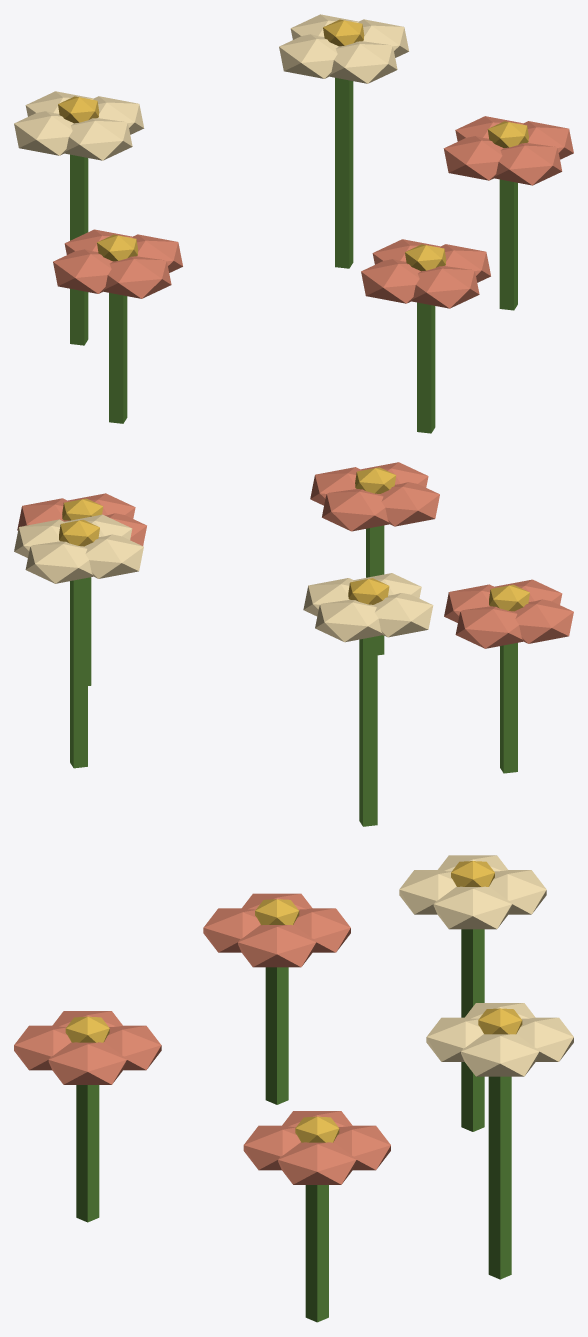
The model's file is flowers.glb.
3 renders of one model, top to bottom at view 1: azimuth 30°, elevation 25°; view 2: azimuth 150°, elevation 25°; view 3: azimuth 270°, elevation 25°, orthographic. The views are drawn at different scales.
Visible parts, largest first — view 1: flowers; view 2: flowers; view 3: flowers.
Boxes of the visible parts, x1,y1,x2,y2 form: flowers: (14,14,573,433); flowers: (14,462,573,826); flowers: (14,855,573,1322).
Bounding box in the file's own units: 0.2312 × 0.102 × 0.1944.
